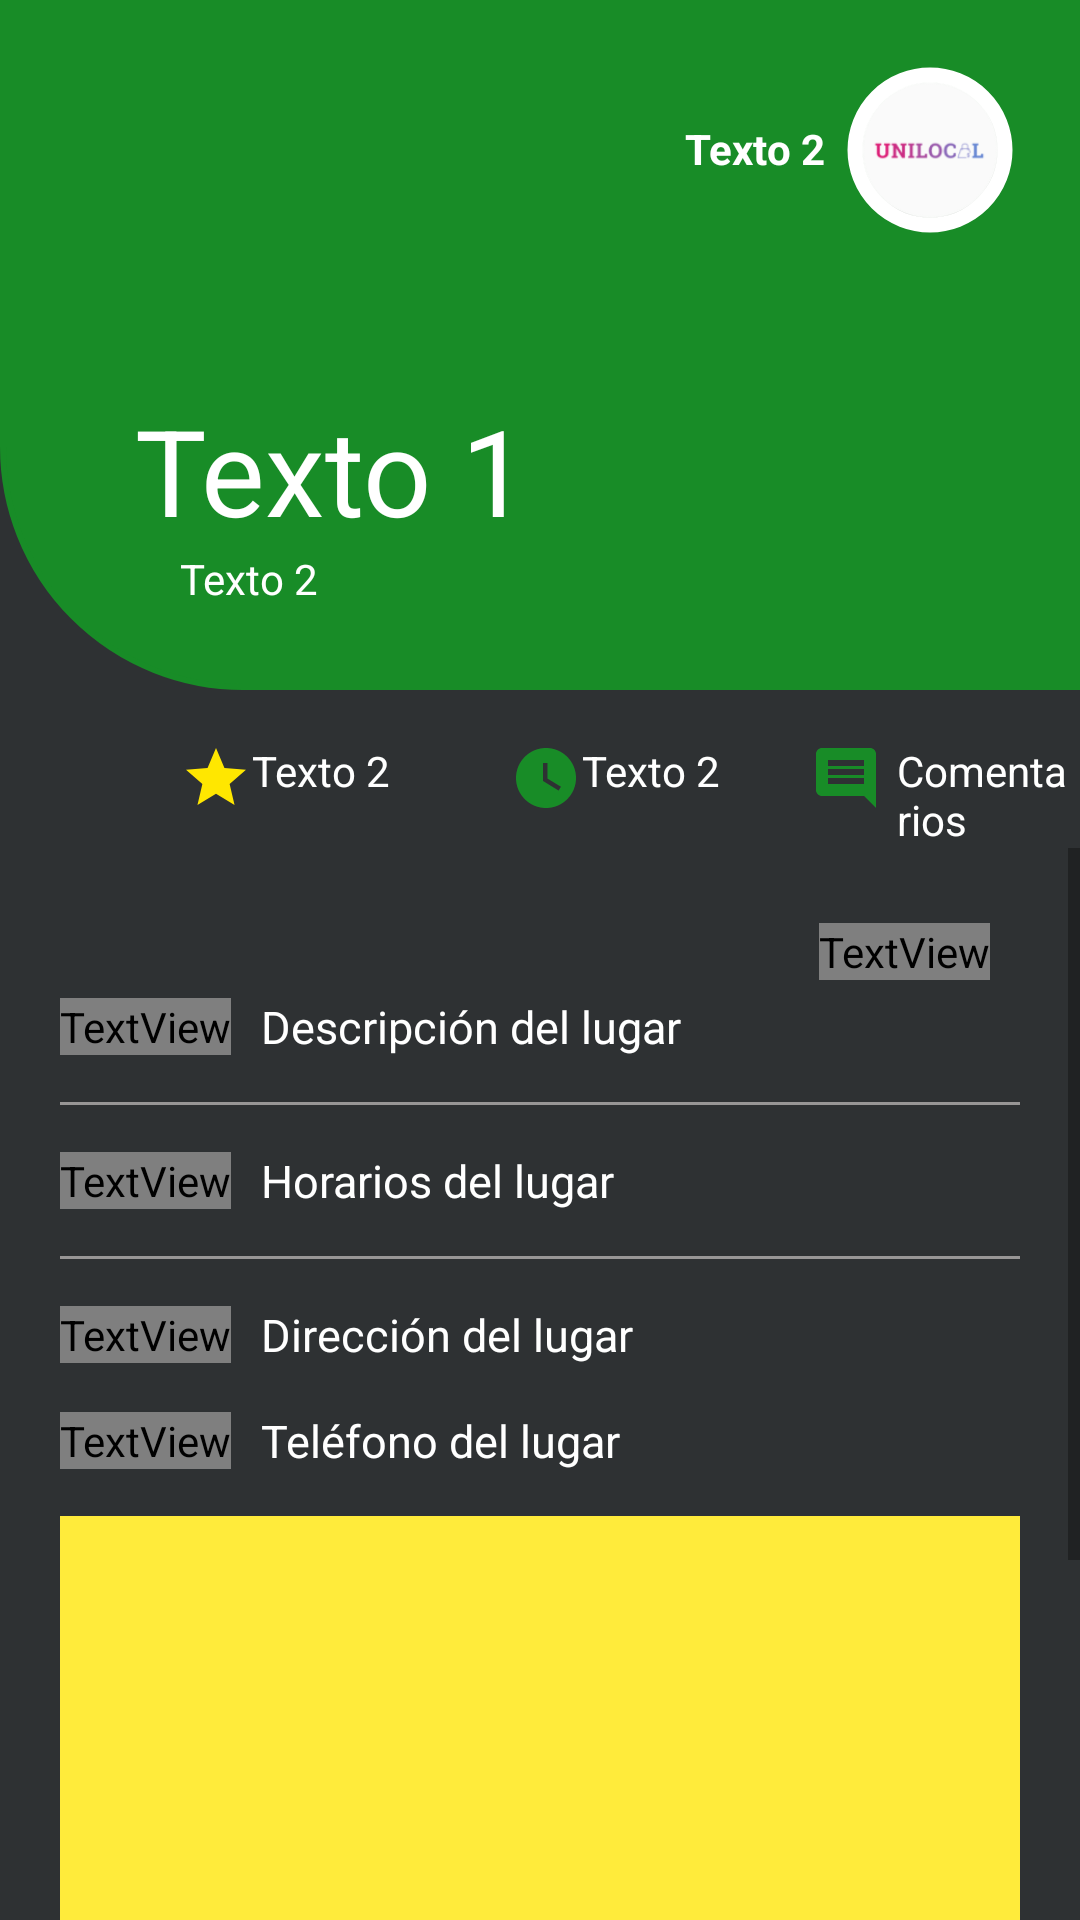

Locate icon controls on the screen. Image size 1080*1920, boxes as [x1, y1, x2, y2].
comment: [816, 748, 876, 808]
star: [186, 748, 246, 805]
watch: [516, 748, 576, 808]
